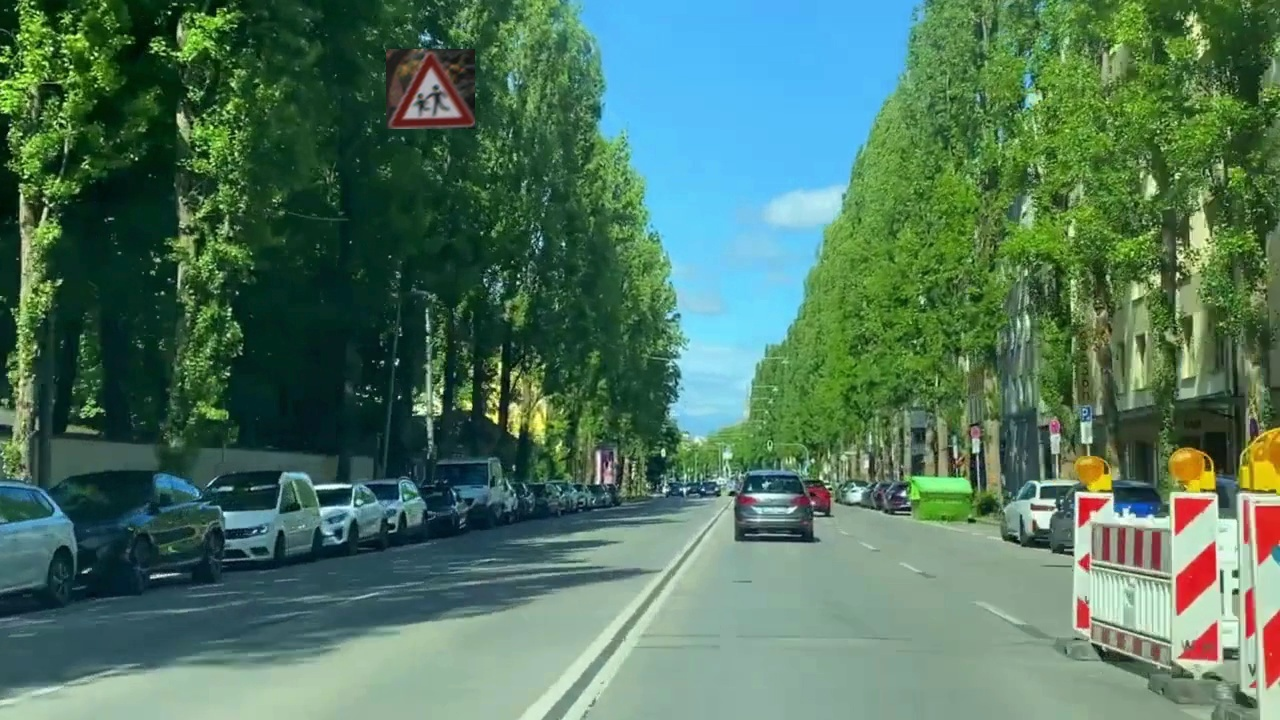Children: (386, 49, 475, 129)
